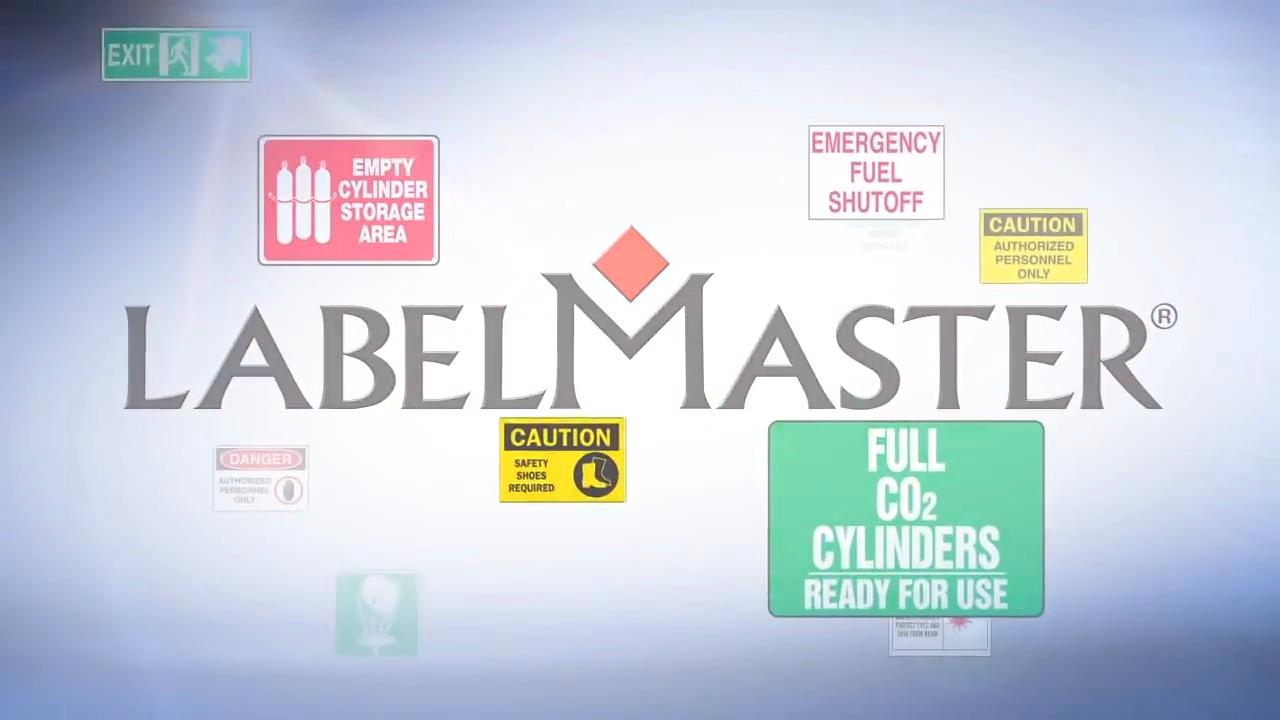safety_signage: (501, 416, 625, 503)
